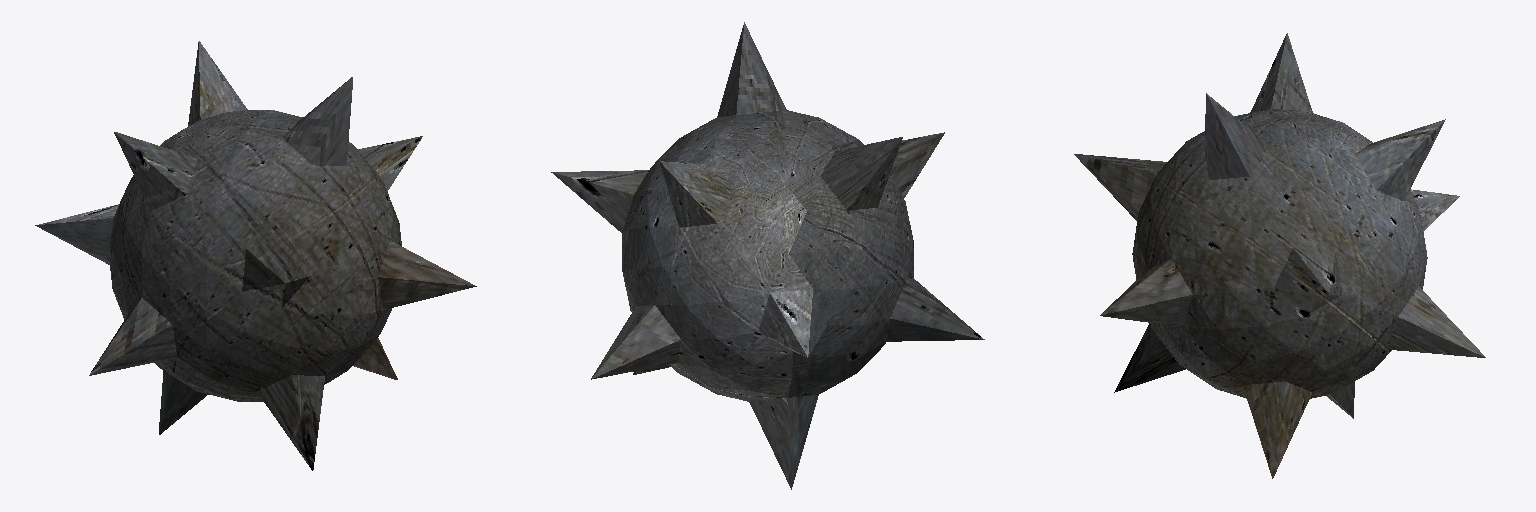
3 renders of one model, left to right at view 1: azimuth 30°, elevation 25°; view 2: azimuth 150°, elevation 25°; view 3: azimuth 270°, elevation 25°, orthographic.
Visible parts, largest first — view 1: Icosphere; view 2: Icosphere; view 3: Icosphere.
Boxes of the visible parts, x1=… form: Icosphere: x1=35, y1=41, x2=476, y2=470; Icosphere: x1=551, y1=22, x2=984, y2=489; Icosphere: x1=1074, y1=33, x2=1485, y2=478.
Size of the model in its own units: 3 by 2.87 by 2.8.
Materials: 1 (1 with a texture image).